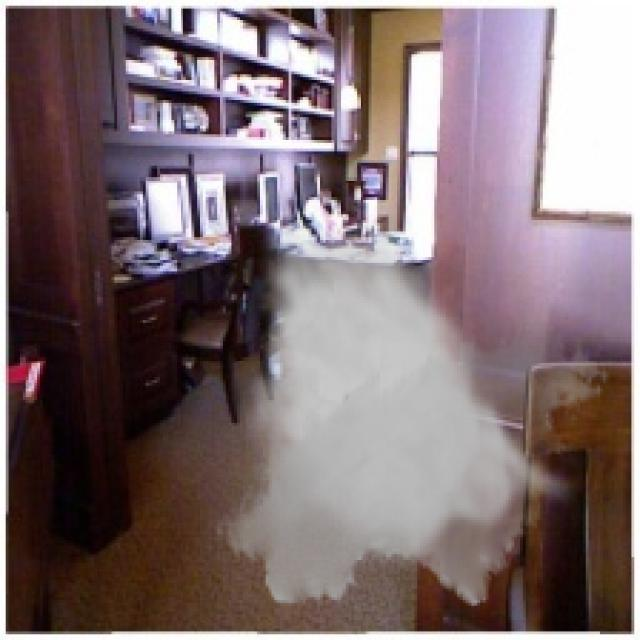Smoke: (214, 205, 612, 618)
